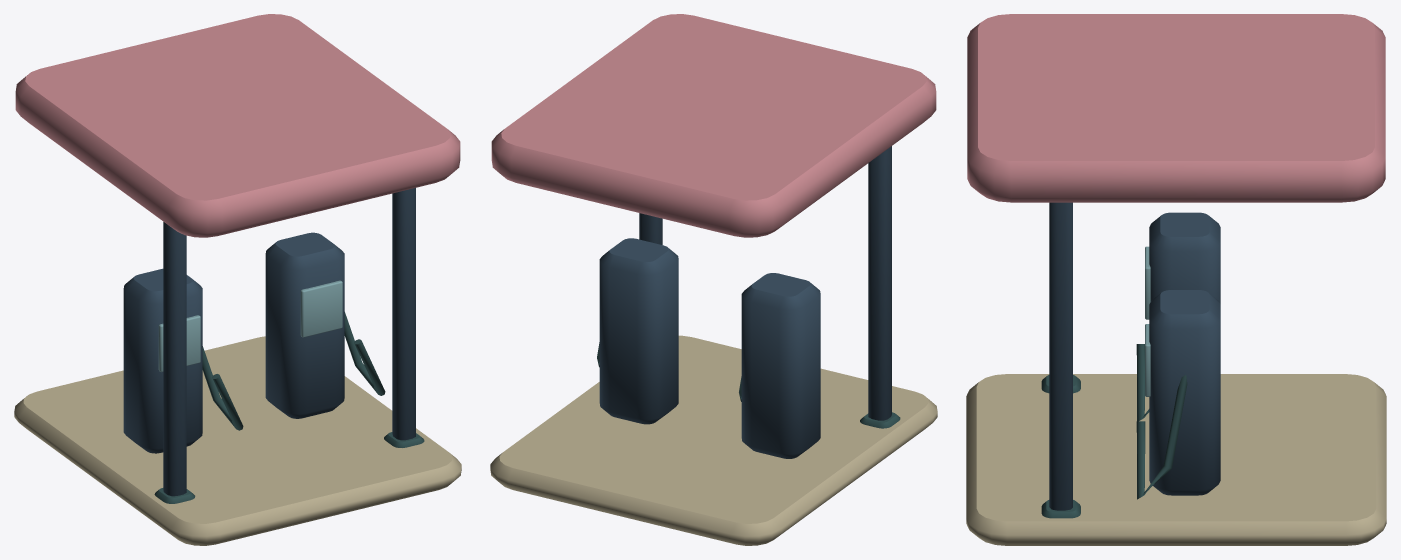
The model's file is luxury_fuel_2.glb.
3 renders of one model, left to right at view 1: azimuth 30°, elevation 25°; view 2: azimuth 150°, elevation 25°; view 3: azimuth 270°, elevation 25°, orthographic. The views are drawn at different scales.
Parts seen in each view (by area): view 1: LuxuryFuel2; view 2: LuxuryFuel2; view 3: LuxuryFuel2.
Part boxes in pixels (x1,y1,x2,y2): LuxuryFuel2: (14, 14, 461, 545); LuxuryFuel2: (490, 14, 937, 545); LuxuryFuel2: (966, 14, 1386, 545).
Bounding box in the file's own units: 2.18 × 2.51 × 2.48.
